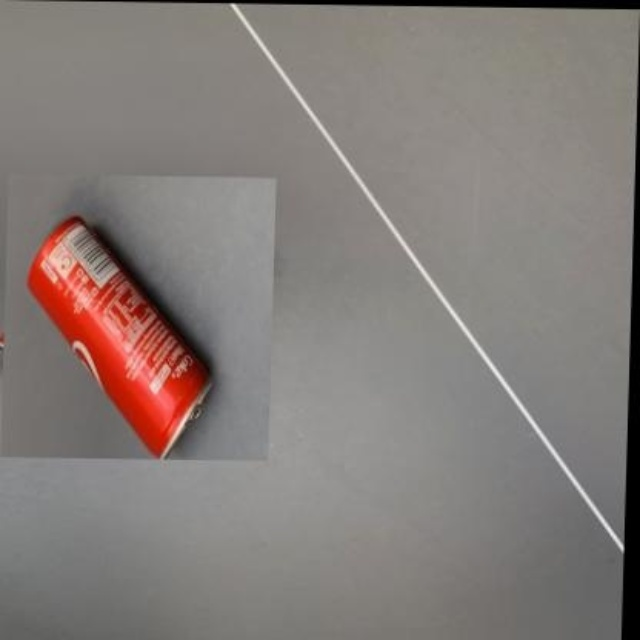trash: (28, 217, 211, 457)
